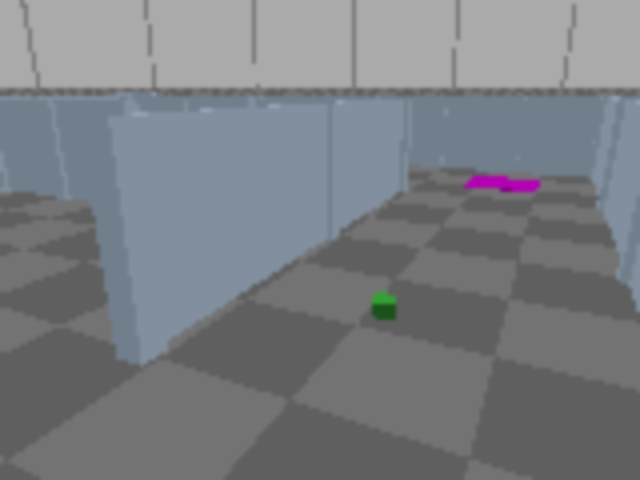goal_zone: (465, 175, 539, 193)
puck: (373, 294, 394, 319)
